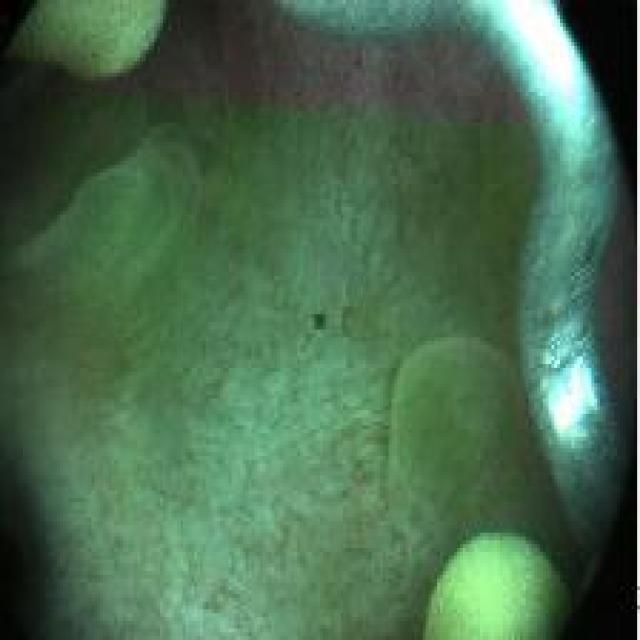color misalignment: (309, 306, 333, 335)
contrast: (1, 430, 73, 635)
instrument: (290, 5, 626, 549), (419, 530, 573, 636), (2, 1, 169, 82)
saturation: (490, 0, 597, 141)
specularity: (543, 353, 600, 447)
